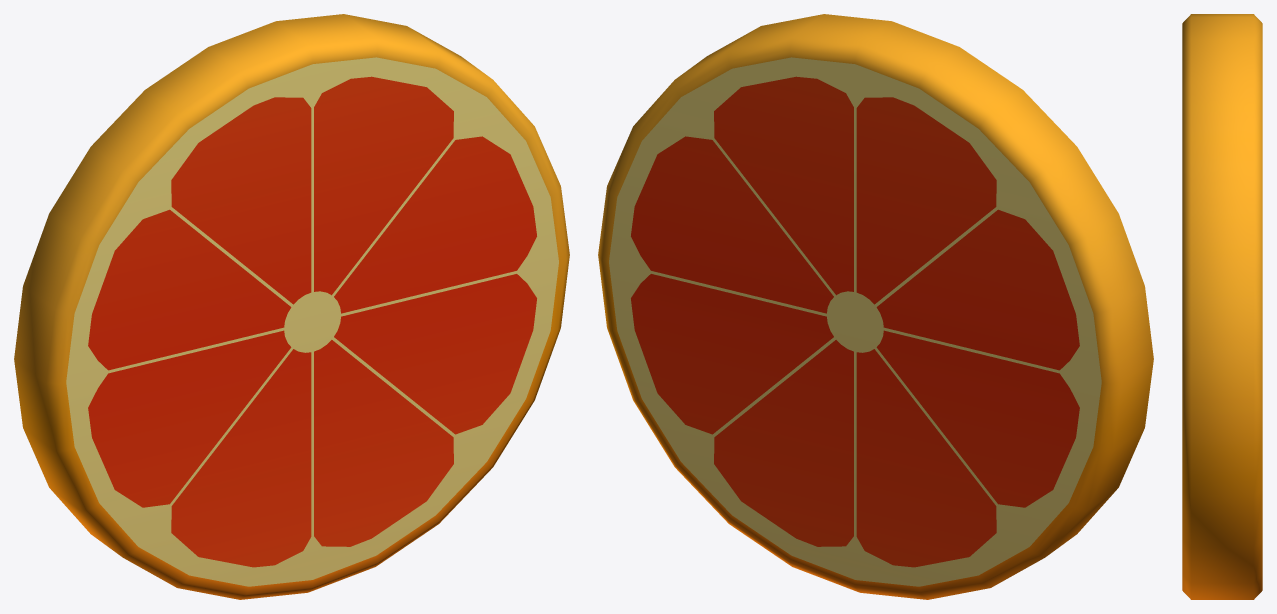
Rendered from Orange_ring_red.fbx.
The picture shows the model from 3 angles, left to right: view 1: azimuth 30°, elevation 25°; view 2: azimuth 150°, elevation 25°; view 3: azimuth 270°, elevation 25°; orthographic projection. The views are drawn at different scales.
Visible parts, largest first — view 1: Orange_ring_red; view 2: Orange_ring_red; view 3: Orange_ring_red.
Part boxes in pixels (box(x1,y1,x2,y2)): Orange_ring_red: box(14, 14, 569, 599); Orange_ring_red: box(598, 14, 1153, 599); Orange_ring_red: box(1182, 14, 1262, 599).
Bounding box in the file's own units: 169 × 169 × 23.08.
